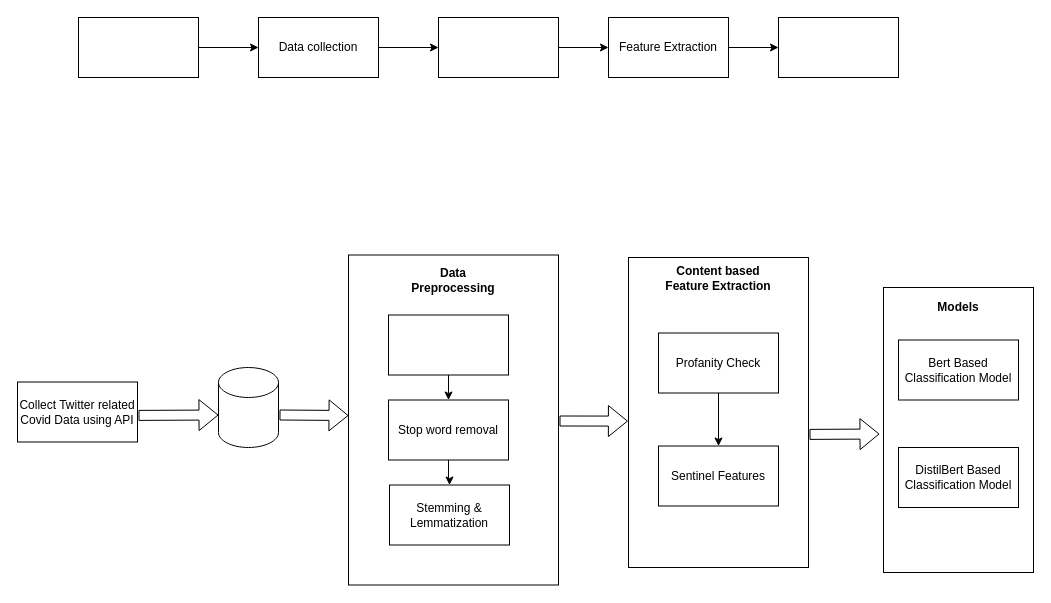
This 1051x603 diagram has some shape labels left out. Each missing label, with the box of its shape:
Classification: (778, 16, 898, 78)
Dataset: (218, 366, 278, 448)
Preprocessing: (438, 16, 558, 78)
Remove unrelated tweets: (388, 314, 508, 375)
Twitter API: (78, 16, 198, 78)
